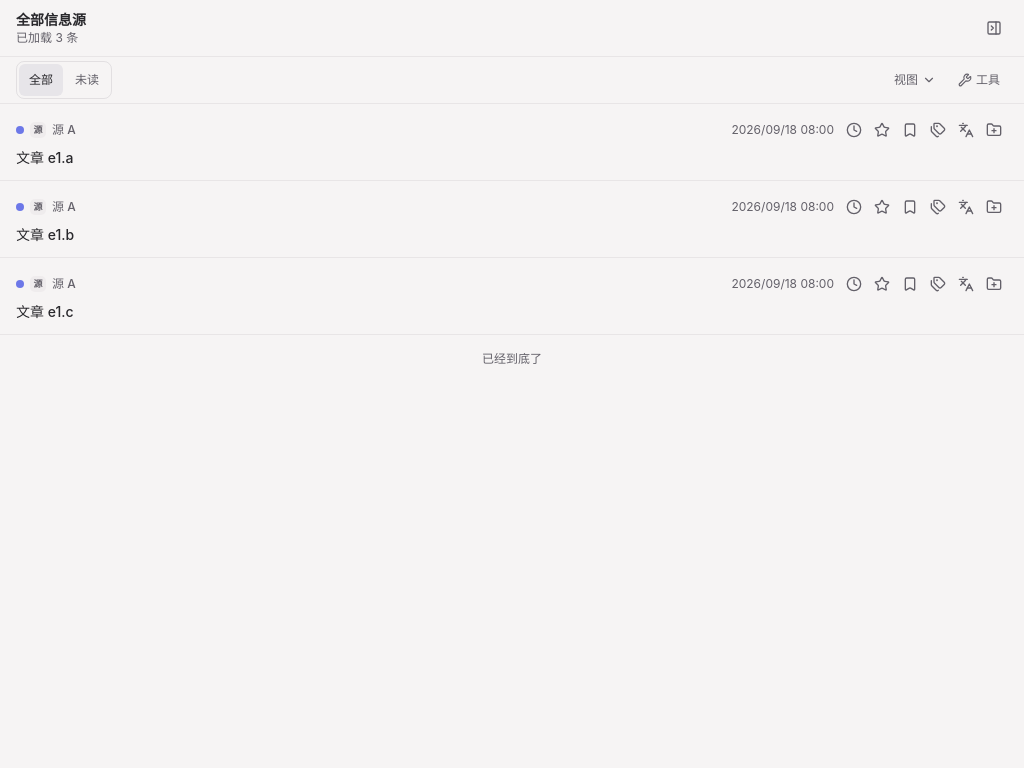
Test: F07 多选批量 › 部分失败：列出失败 ref；重试失败项只重发失败的
What coordinates should you click on to do the following:
click the button "视图"
I would click on:
 (915, 80)
Its box is [886,64,944,96].
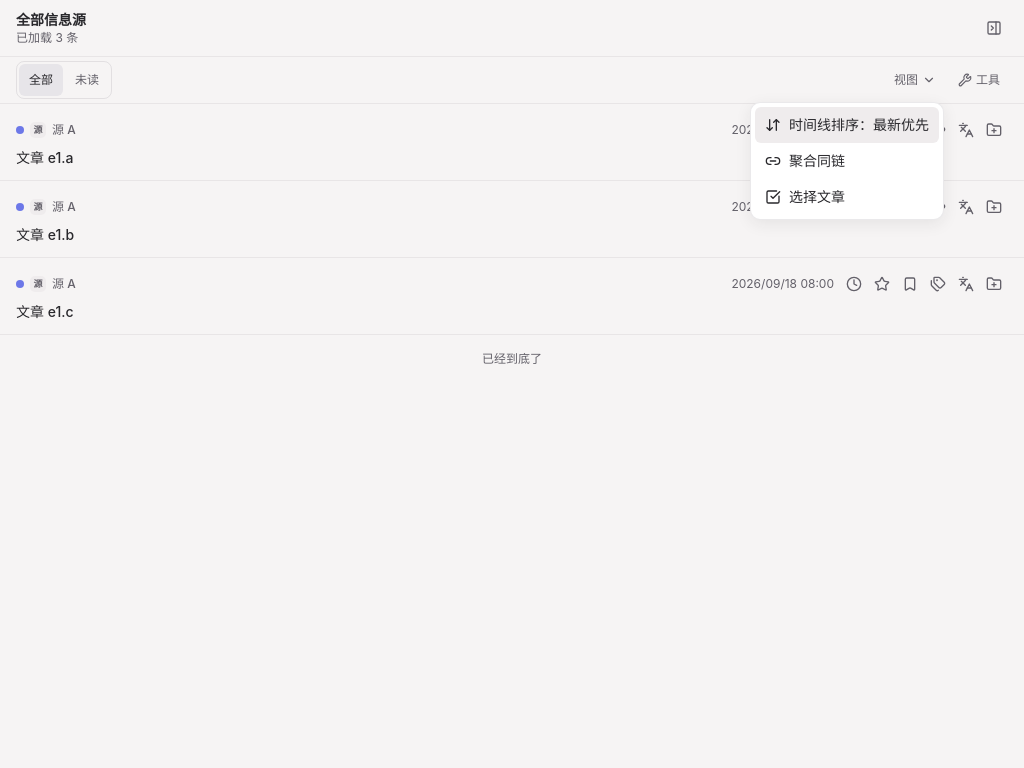
What coordinates should you click on to do the following:
click the menu item with test id "enter-select-mode"
I would click on:
 (805, 196)
Its box is [765,188,845,205].
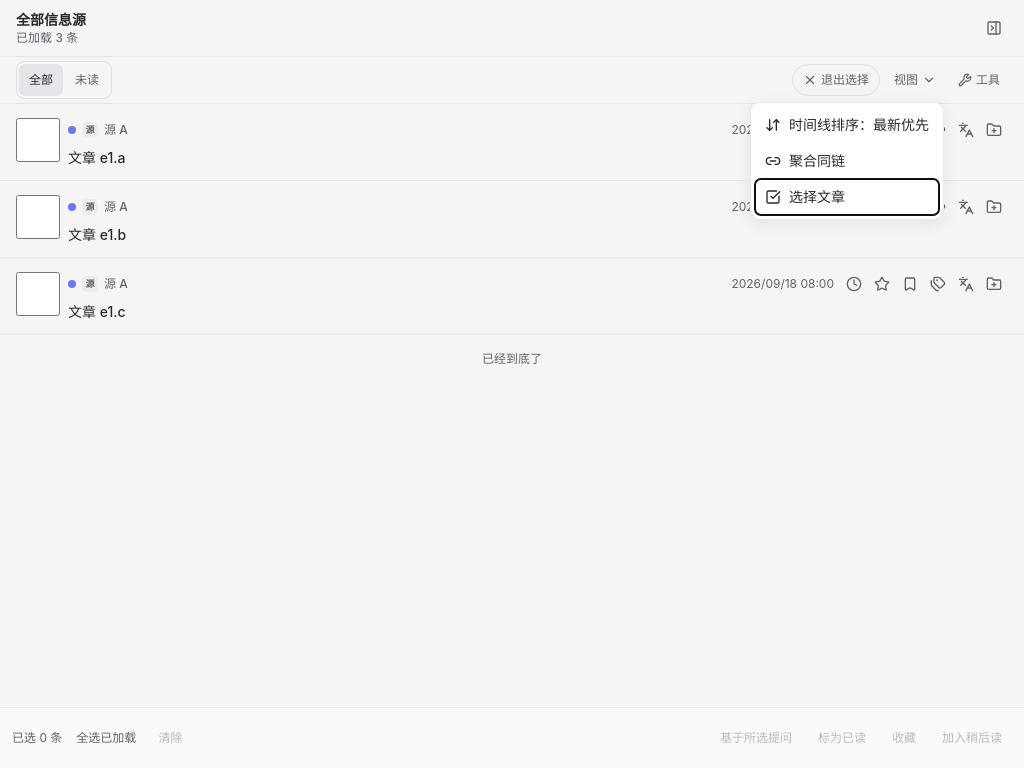
What coordinates should you click on to do the following:
click the button "文章 e1.a"
I would click on:
 (97, 158)
Its box is [68,148,1008,168].
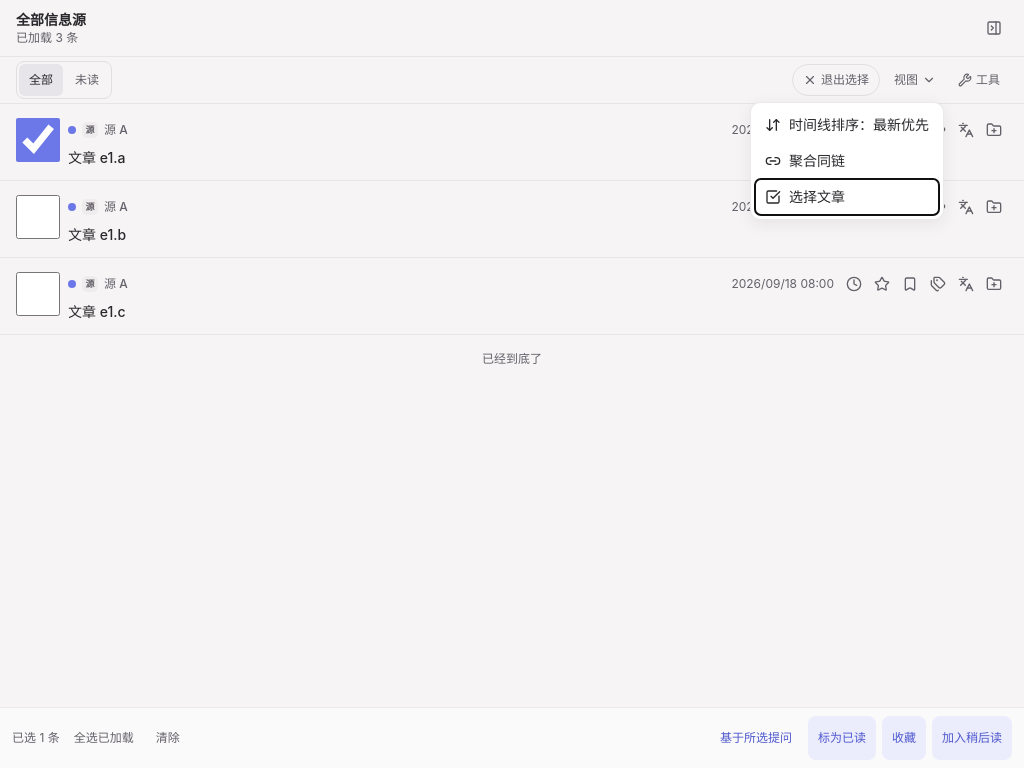
What coordinates should you click on to do the following:
click the button "文章 e1.b"
I would click on:
 (97, 234)
Its box is [68,225,1008,245].
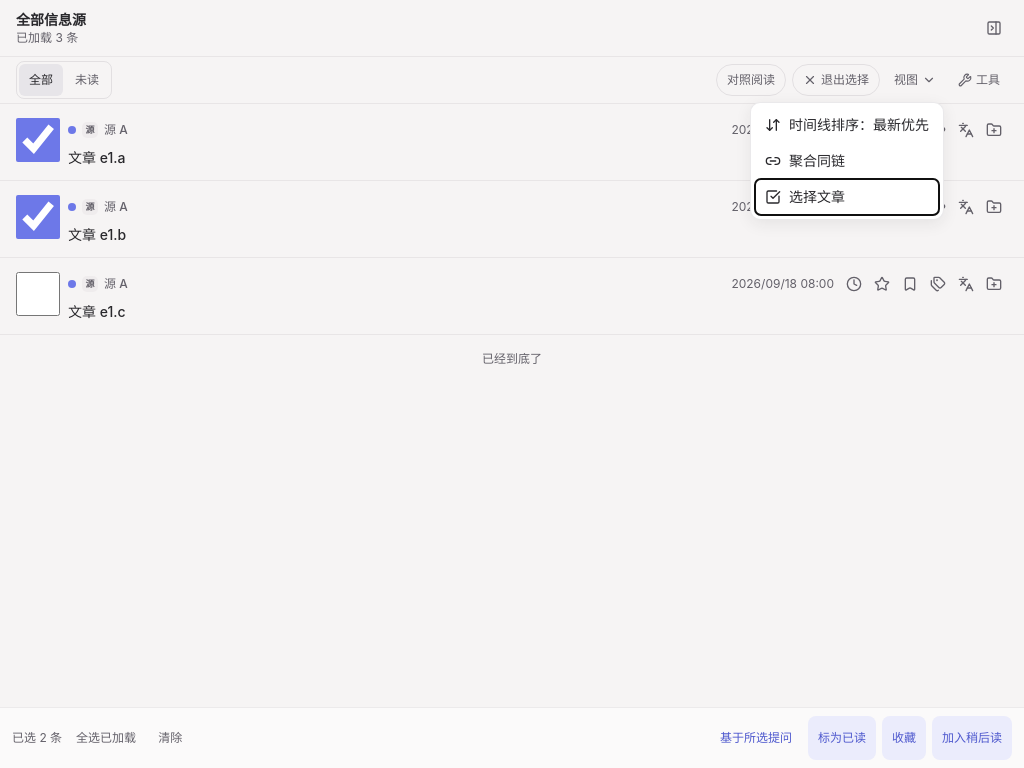
What coordinates should you click on to do the following:
click the button with test id "batch-read"
I would click on:
 (842, 738)
Its box is [808,716,876,760].
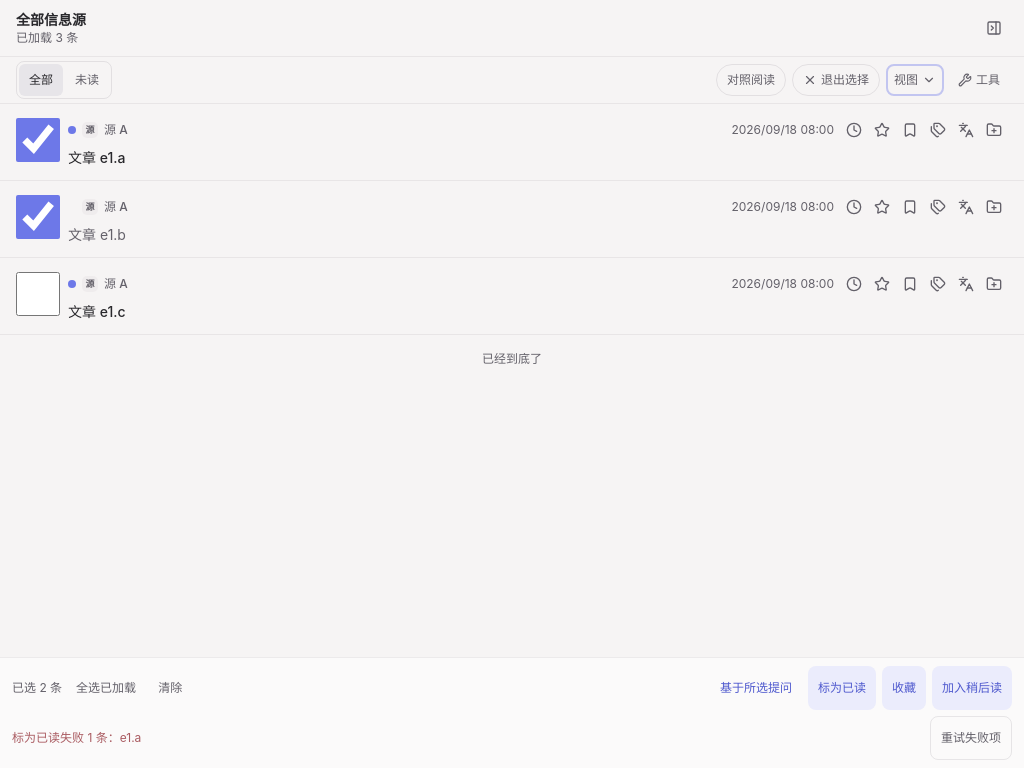
Expected: the message with test id "batch-failed" reads "标为已读失败 1 条：e1.a", [12,730,141,745]
Expected: the button with test id "batch-retry" is shown
What coordinates should you click on to do the following:
click the button with test id "batch-retry"
I would click on:
 (971, 738)
Its box is [930,716,1012,760].
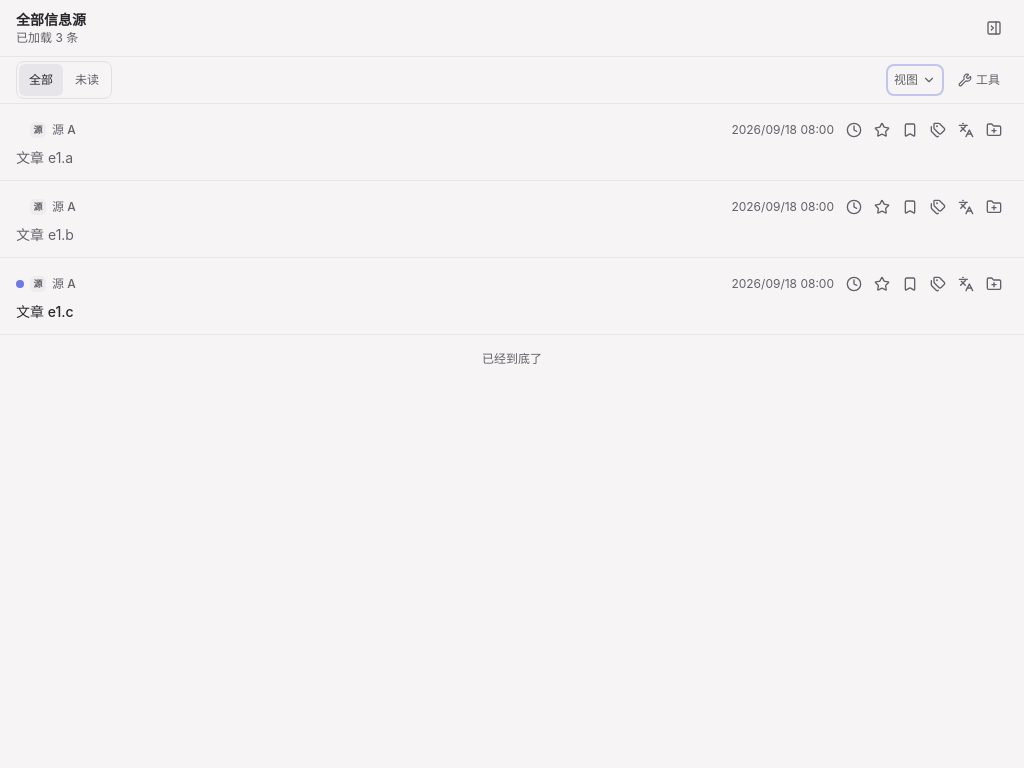
Expected: the element with test id "batch-bar" is gone
